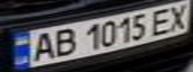0: (100, 18, 118, 47)
1: (78, 20, 103, 51), (115, 15, 136, 43)
5: (130, 10, 154, 40)
A: (24, 30, 60, 63)
B: (48, 26, 81, 57)
E: (148, 6, 178, 37)
X: (163, 2, 193, 32)
